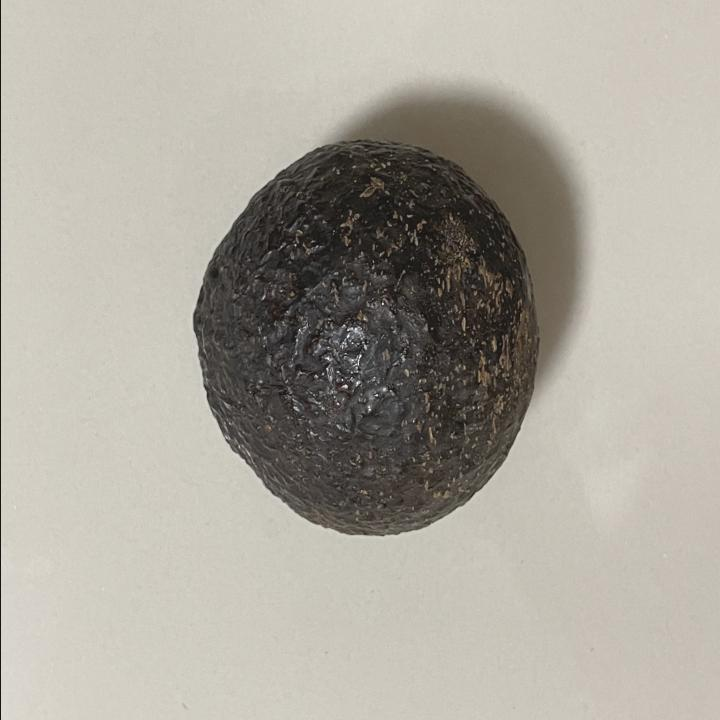Level3: (182, 129, 546, 553)
